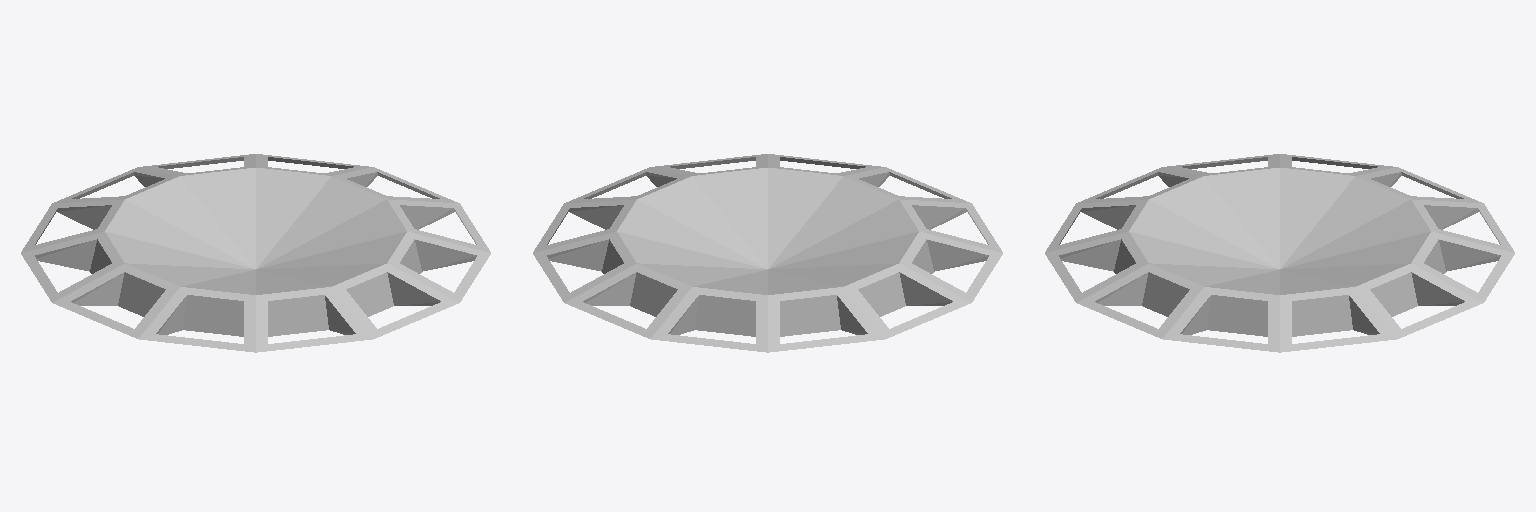
The model's file is 5Disc.obj.
3 renders of one model, left to right at view 1: azimuth 30°, elevation 25°; view 2: azimuth 150°, elevation 25°; view 3: azimuth 270°, elevation 25°, orthographic.
Parts seen in each view (by area): view 1: 5Disc; view 2: 5Disc; view 3: 5Disc.
Boxes of the visible parts, box(x1,y1,x2,y2) form: 5Disc: box(21, 154, 490, 352); 5Disc: box(533, 154, 1002, 352); 5Disc: box(1045, 154, 1514, 352).
Bounding box in the file's own units: 3.11 × 0.3591 × 3.11.